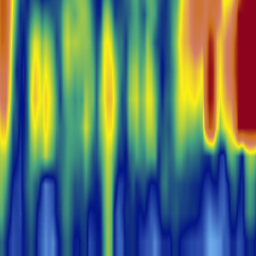defect: (165, 1, 204, 227), (59, 1, 93, 220), (221, 1, 256, 201), (97, 1, 116, 255), (1, 1, 20, 223), (125, 1, 143, 198), (143, 3, 158, 195), (205, 7, 219, 203), (41, 19, 58, 165), (28, 11, 42, 179)
